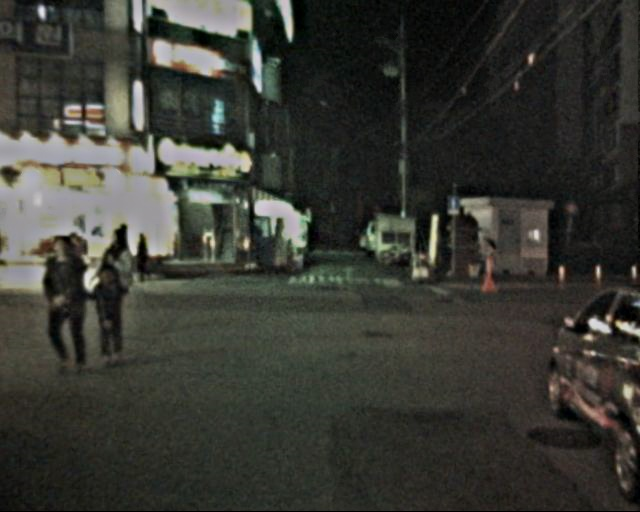person: (39, 229, 101, 375), (97, 223, 142, 332), (91, 256, 133, 362), (471, 229, 496, 283), (133, 224, 154, 283)
